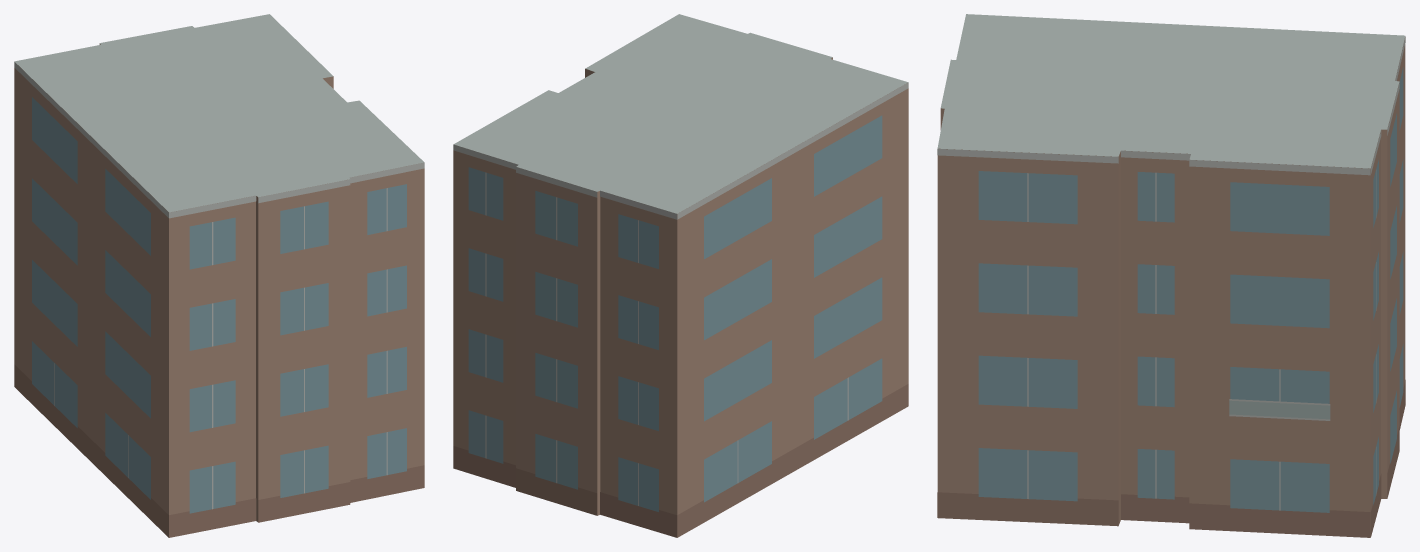
The model's file is survey-upis-32565918.glb.
3 renders of one model, left to right at view 1: azimuth 30°, elevation 25°; view 2: azimuth 150°, elevation 25°; view 3: azimuth 270°, elevation 25°, orthographic. The views are drawn at different scales.
Parts seen in each view (by area): view 1: survey-upis-32565918.tmp; view 2: survey-upis-32565918.tmp; view 3: survey-upis-32565918.tmp.
Part boxes in pixels (x1,y1,x2,y2): survey-upis-32565918.tmp: (14, 14, 424, 537); survey-upis-32565918.tmp: (453, 14, 908, 537); survey-upis-32565918.tmp: (937, 14, 1405, 537).
Size of the model in its own units: 11.96 by 13.32 by 15.31.
